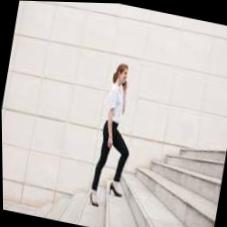Bench: (74, 157, 194, 227)
